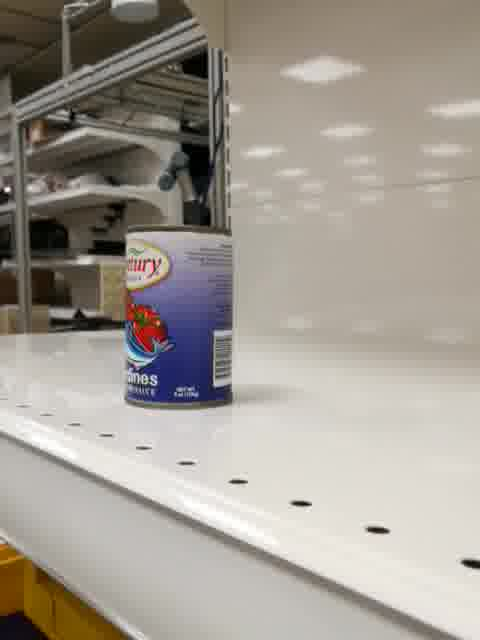sardine: (123, 225, 236, 410)
